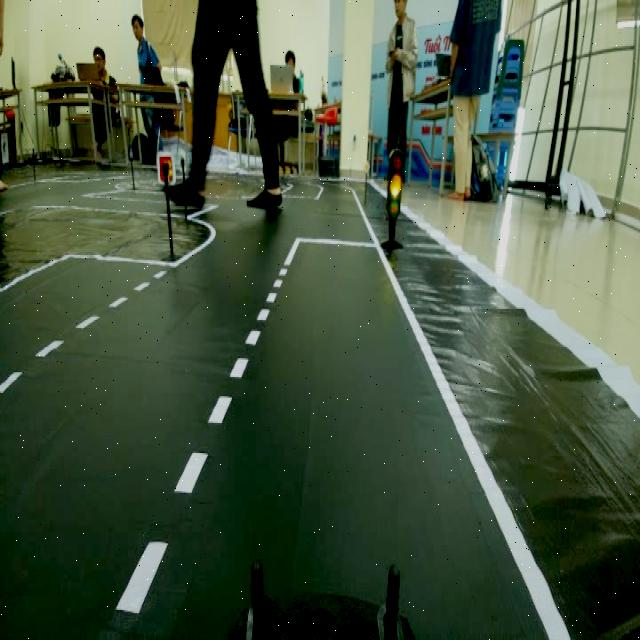trafficlight: (374, 138, 412, 258)
